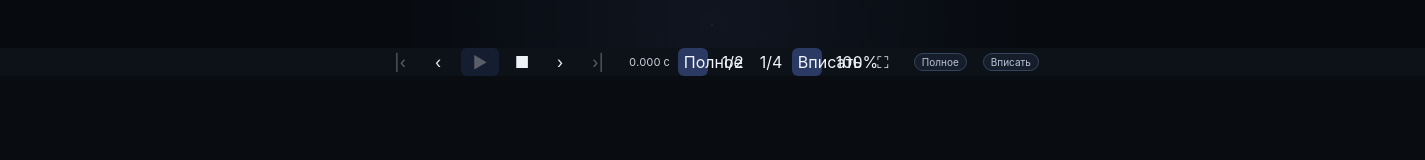
Test: PreviewPlayer › names and describes Preview controls in Russian without changing project data
The image size is (1425, 160).
expect the text with test id "preview-quality" reads "Полное": met, box [922,56,959,68]
expect the text with test id "preview-scale" reads "Вписать": met, box [991,56,1031,68]
Click the button named "Качество предпросмотра: 1/4" at (769,62), box [754,48,784,76]
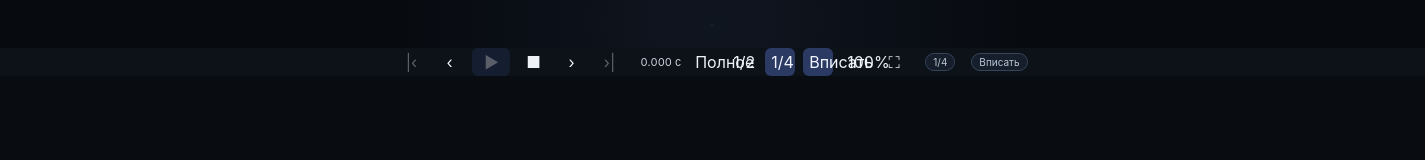
Click the button named "Масштаб предпросмотра: 100%" at (856,62), box [841,48,871,76]
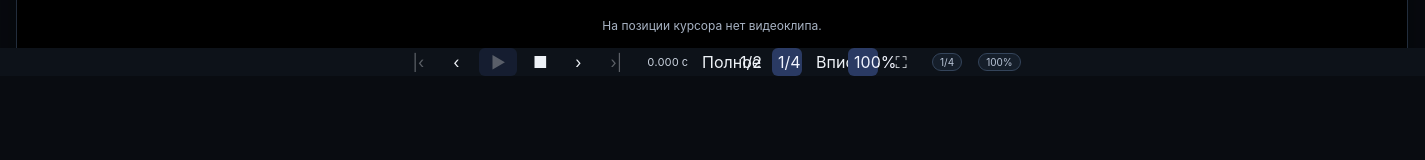
expect the text with test id "preview-quality" reads "1/4": met, box [940,56,954,68]
expect the text with test id "preview-scale" reads "100%": met, box [986,56,1013,68]
